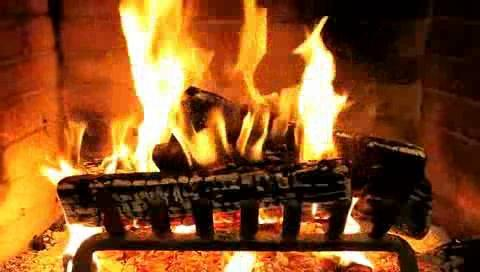fire: (116, 9, 349, 173)
